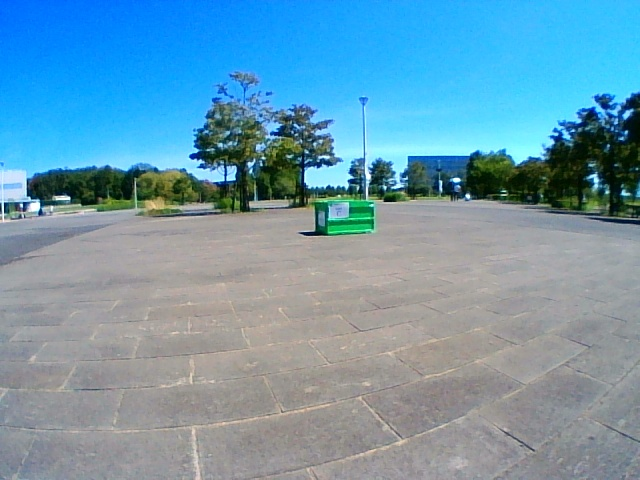green_box: (314, 200, 375, 234)
tag: (328, 203, 349, 219)
